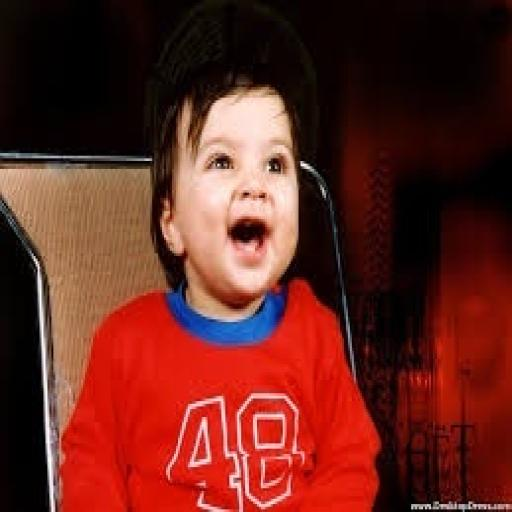laughing: (52, 45, 390, 509)
